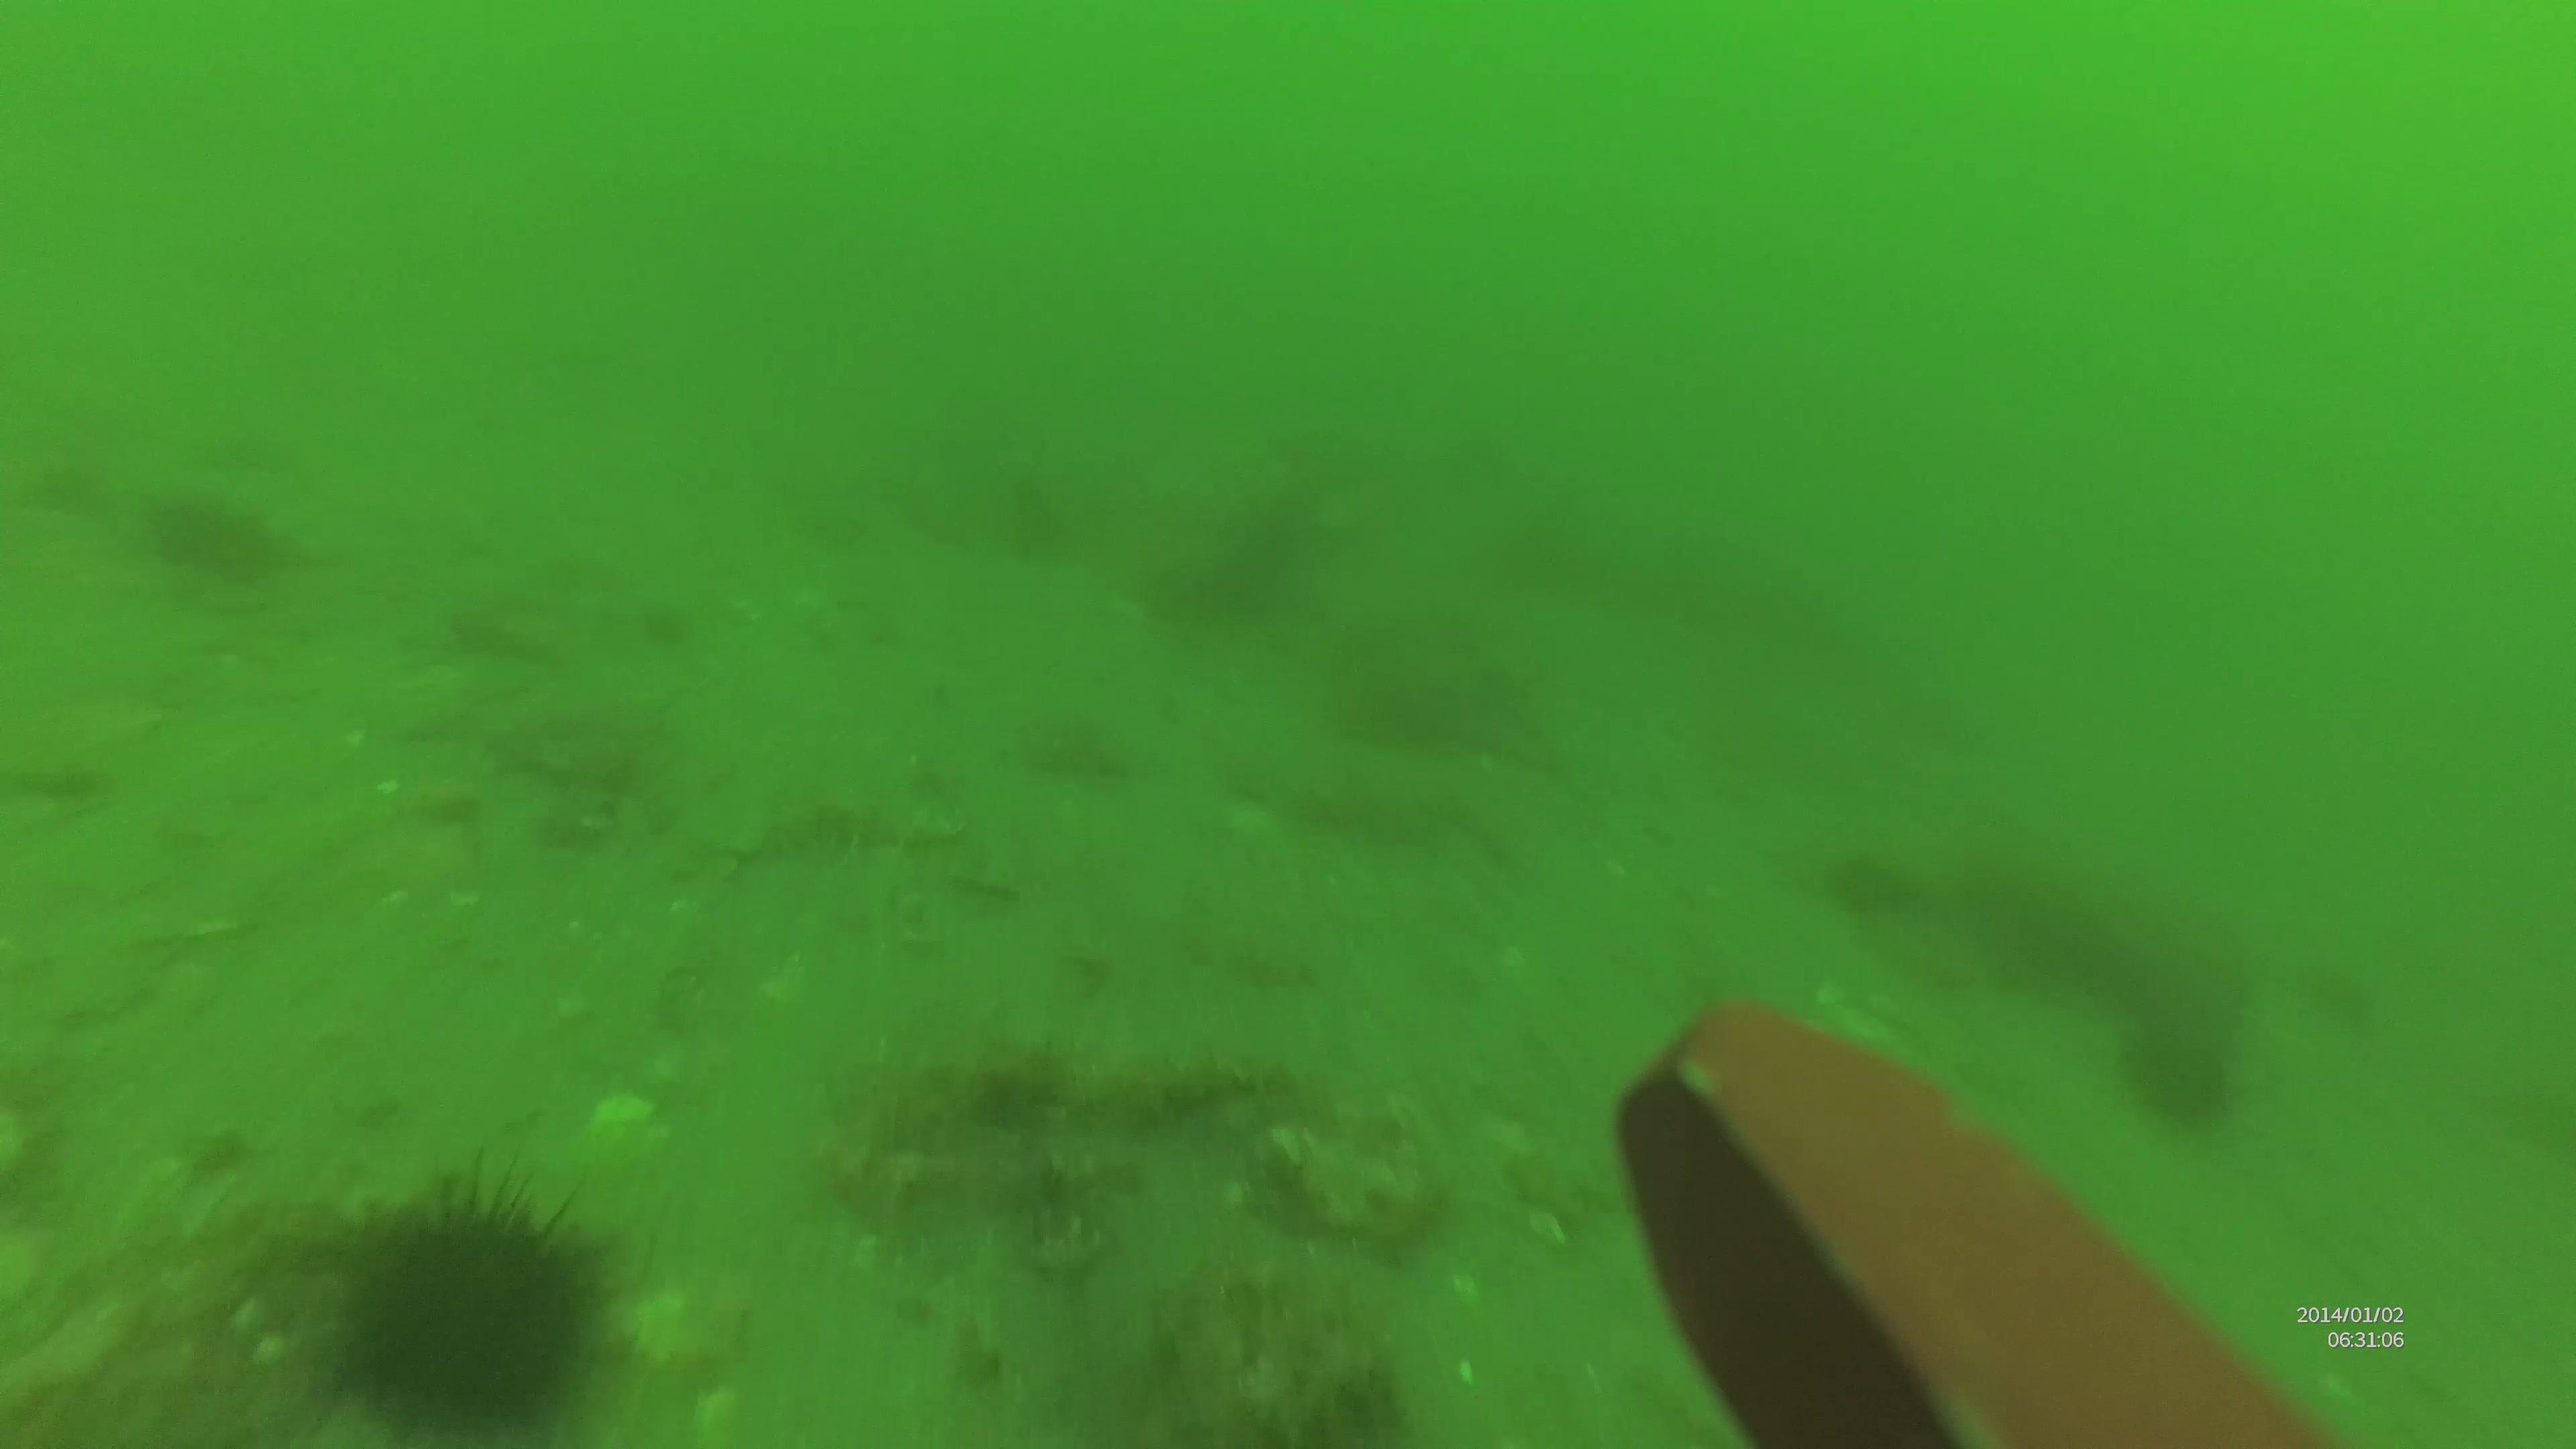echinus: (315, 1159, 633, 1449)
